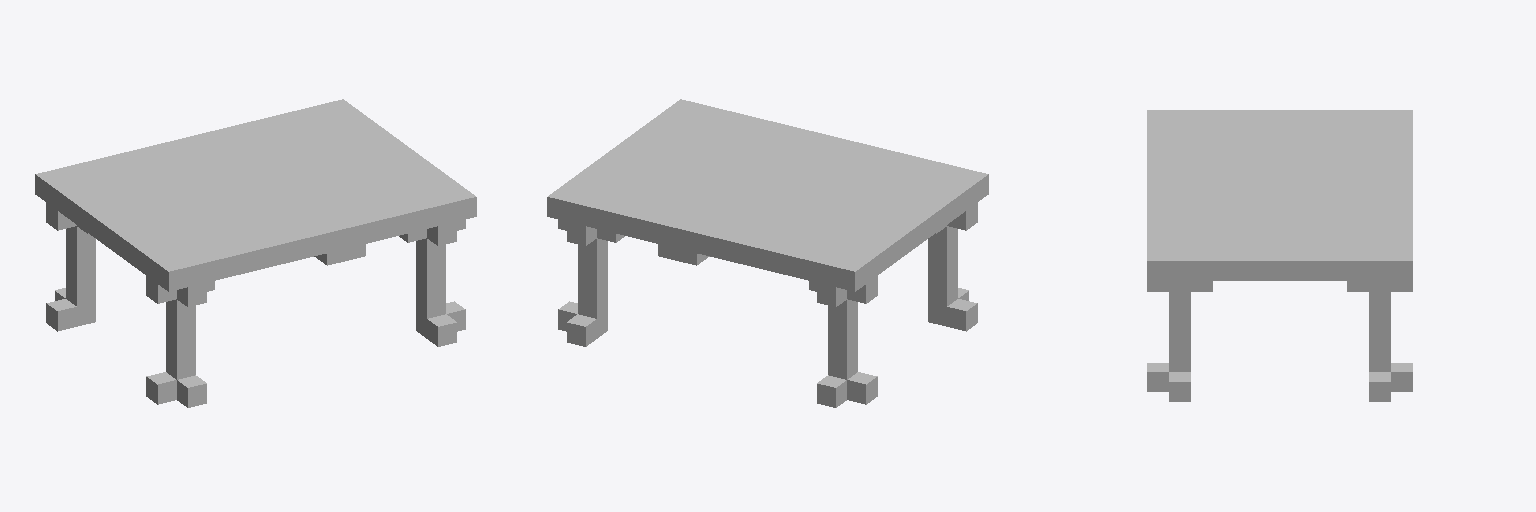
The model's file is table.obj.
The picture shows the model from 3 angles: view 1: azimuth 30°, elevation 25°; view 2: azimuth 150°, elevation 25°; view 3: azimuth 270°, elevation 25°; orthographic projection.
Parts seen in each view (by area): view 1: object 1; view 2: object 1; view 3: object 1.
Part boxes in pixels (x1,y1,x2,y2): object 1: (35,99,476,407); object 1: (547,99,988,407); object 1: (1147,110,1412,401).
Size of the model in its own units: 1.6 by 0.7 by 1.2.